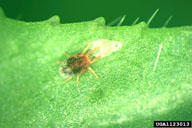Mites: (58, 45, 99, 88)
